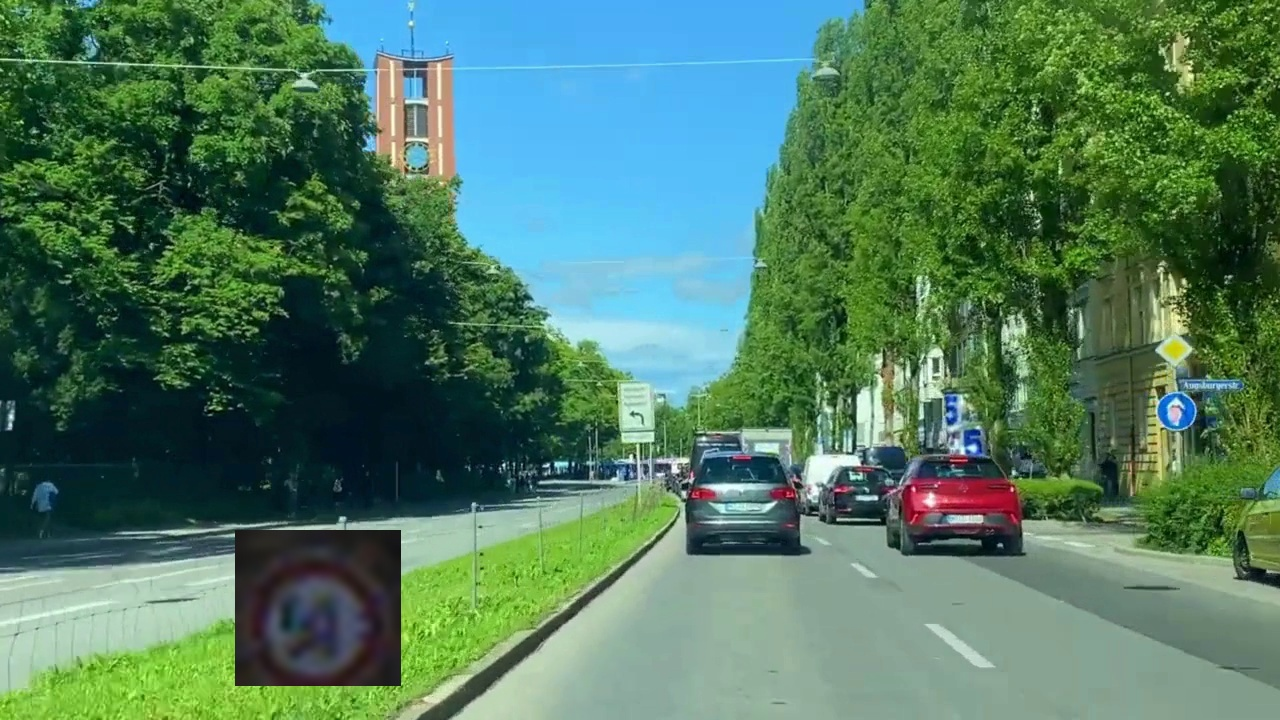Speed 50: (235, 530, 401, 686)
